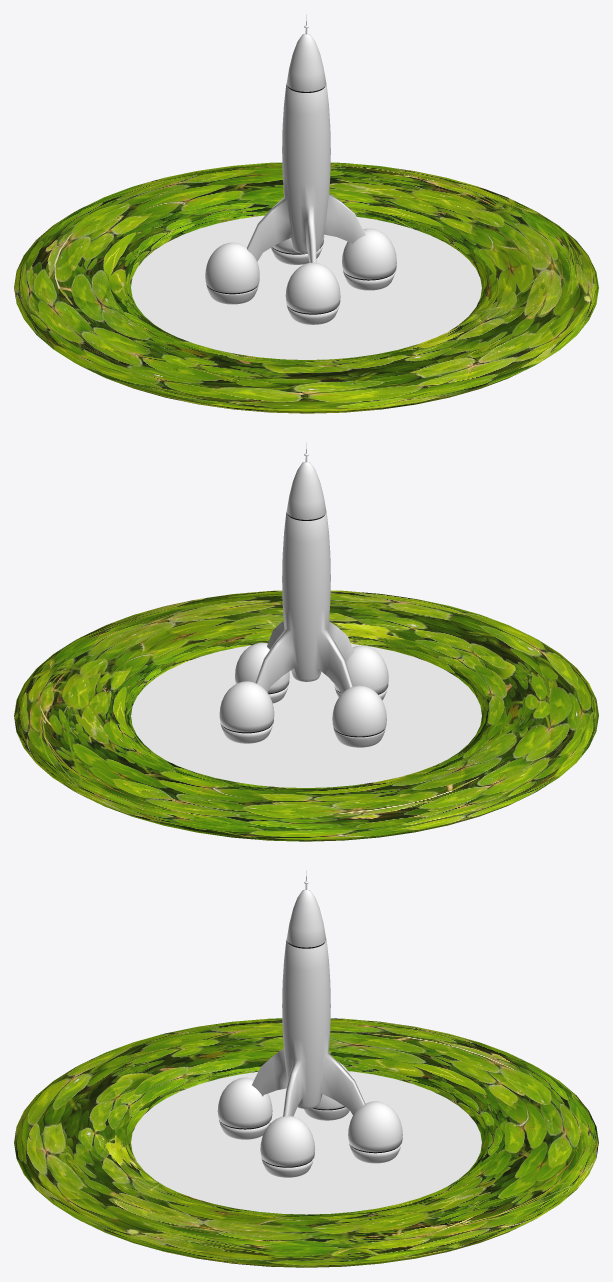
The model's file is rocket.gltf.
3 views of the same model, one above another, from view 1: azimuth 30°, elevation 25°; view 2: azimuth 150°, elevation 25°; view 3: azimuth 270°, elevation 25° (orthographic).
Visible parts, largest first — view 1: Torus, Sphere, Sphere.003, Sphere.002, Sphere.004, Sphere.001; view 2: Torus, Sphere, Sphere.001, Sphere.002, Sphere.003, Sphere.004; view 3: Torus, Sphere, Sphere.001, Sphere.004, Sphere.003, Sphere.002.
Part boxes in pixels (x1=…): Torus: x1=14, y1=162, x2=598, y2=413; Sphere: x1=131, y1=33, x2=481, y2=359; Sphere.003: x1=285, y1=262, x2=340, y2=324; Sphere.002: x1=205, y1=242, x2=259, y2=304; Sphere.004: x1=342, y1=228, x2=396, y2=290; Sphere.001: x1=271, y1=235, x2=324, y2=264; Torus: x1=14, y1=590, x2=598, y2=841; Sphere: x1=131, y1=461, x2=481, y2=787; Sphere.001: x1=219, y1=681, x2=274, y2=743; Sphere.002: x1=332, y1=685, x2=386, y2=747; Sphere.003: x1=334, y1=645, x2=388, y2=700; Sphere.004: x1=235, y1=642, x2=289, y2=703; Torus: x1=14, y1=1018, x2=598, y2=1267; Sphere: x1=131, y1=889, x2=481, y2=1214; Sphere.001: x1=348, y1=1101, x2=402, y2=1163; Sphere.004: x1=260, y1=1116, x2=315, y2=1177; Sphere.003: x1=217, y1=1077, x2=272, y2=1139; Sphere.002: x1=304, y1=1061, x2=350, y2=1120.
Size of the model in its own units: 23.89 by 12.82 by 24.
Materials: 5 (1 with a texture image).
